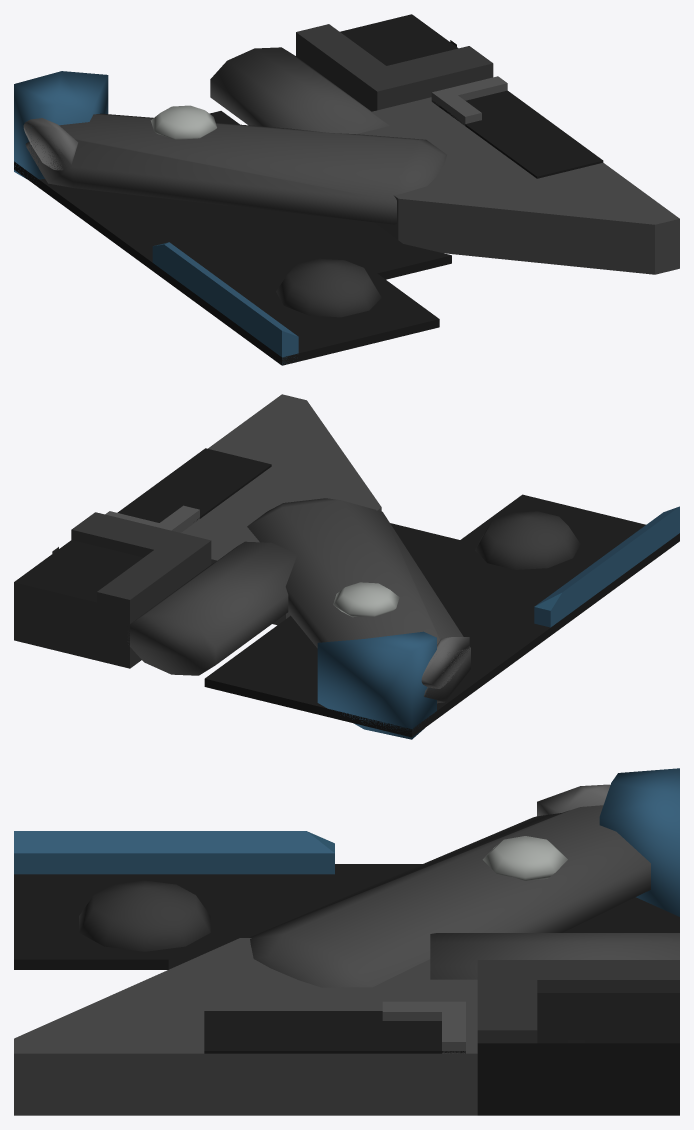
File: newsho-87.glb
3 views of the same model, one above another, from view 1: azimuth 30°, elevation 25°; view 2: azimuth 150°, elevation 25°; view 3: azimuth 270°, elevation 25° (orthographic). The views are drawn at different scales.
Parts seen in each view (by area): view 1: newsho-87; view 2: newsho-87; view 3: newsho-87.
Boxes of the visible parts, box(x1,y1,x2,y2) form: newsho-87: box(14, 14, 679, 365); newsho-87: box(14, 394, 679, 739); newsho-87: box(14, 768, 679, 1115).
Size of the model in its own units: 2 by 0.4347 by 2.33.
